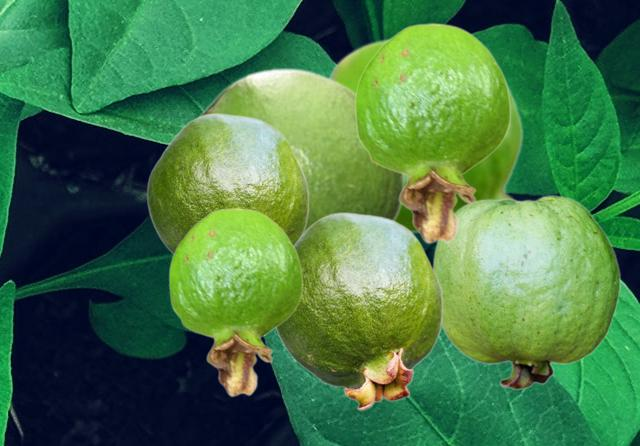guava: (328, 35, 526, 236), (432, 195, 620, 389), (354, 22, 510, 243), (195, 66, 404, 226), (275, 212, 442, 410), (168, 207, 302, 396), (146, 113, 308, 253)
